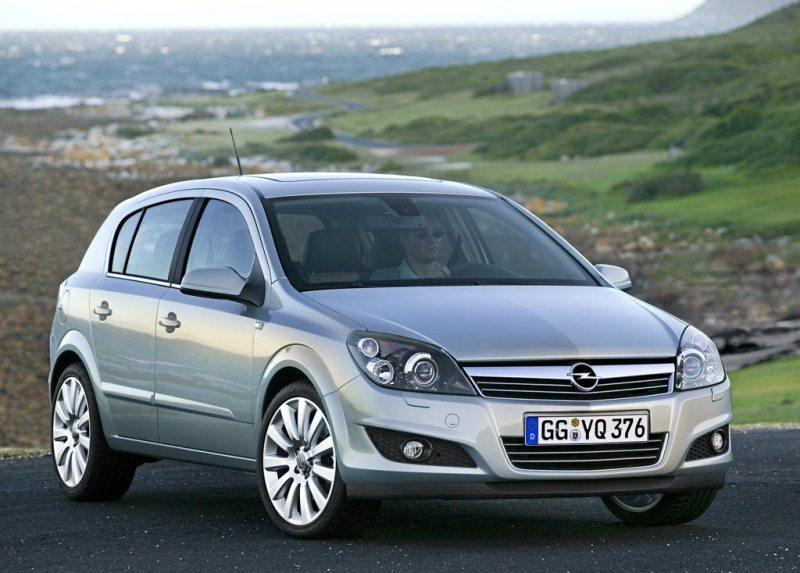car: (44, 127, 746, 534)
